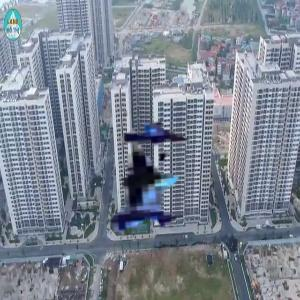drone: (11, 79, 221, 289)
